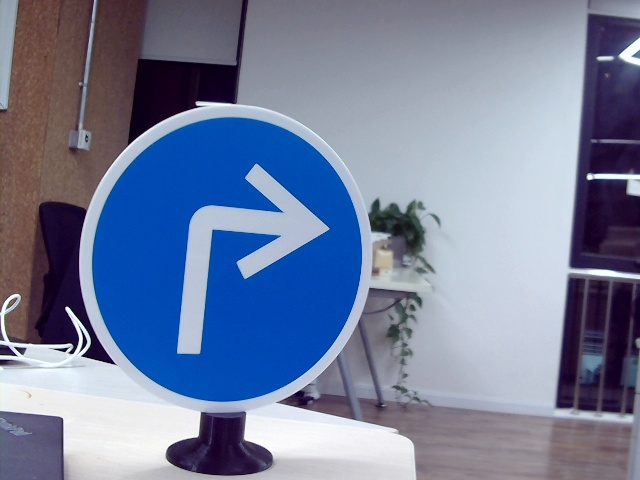turn_right: (169, 171, 324, 364)
